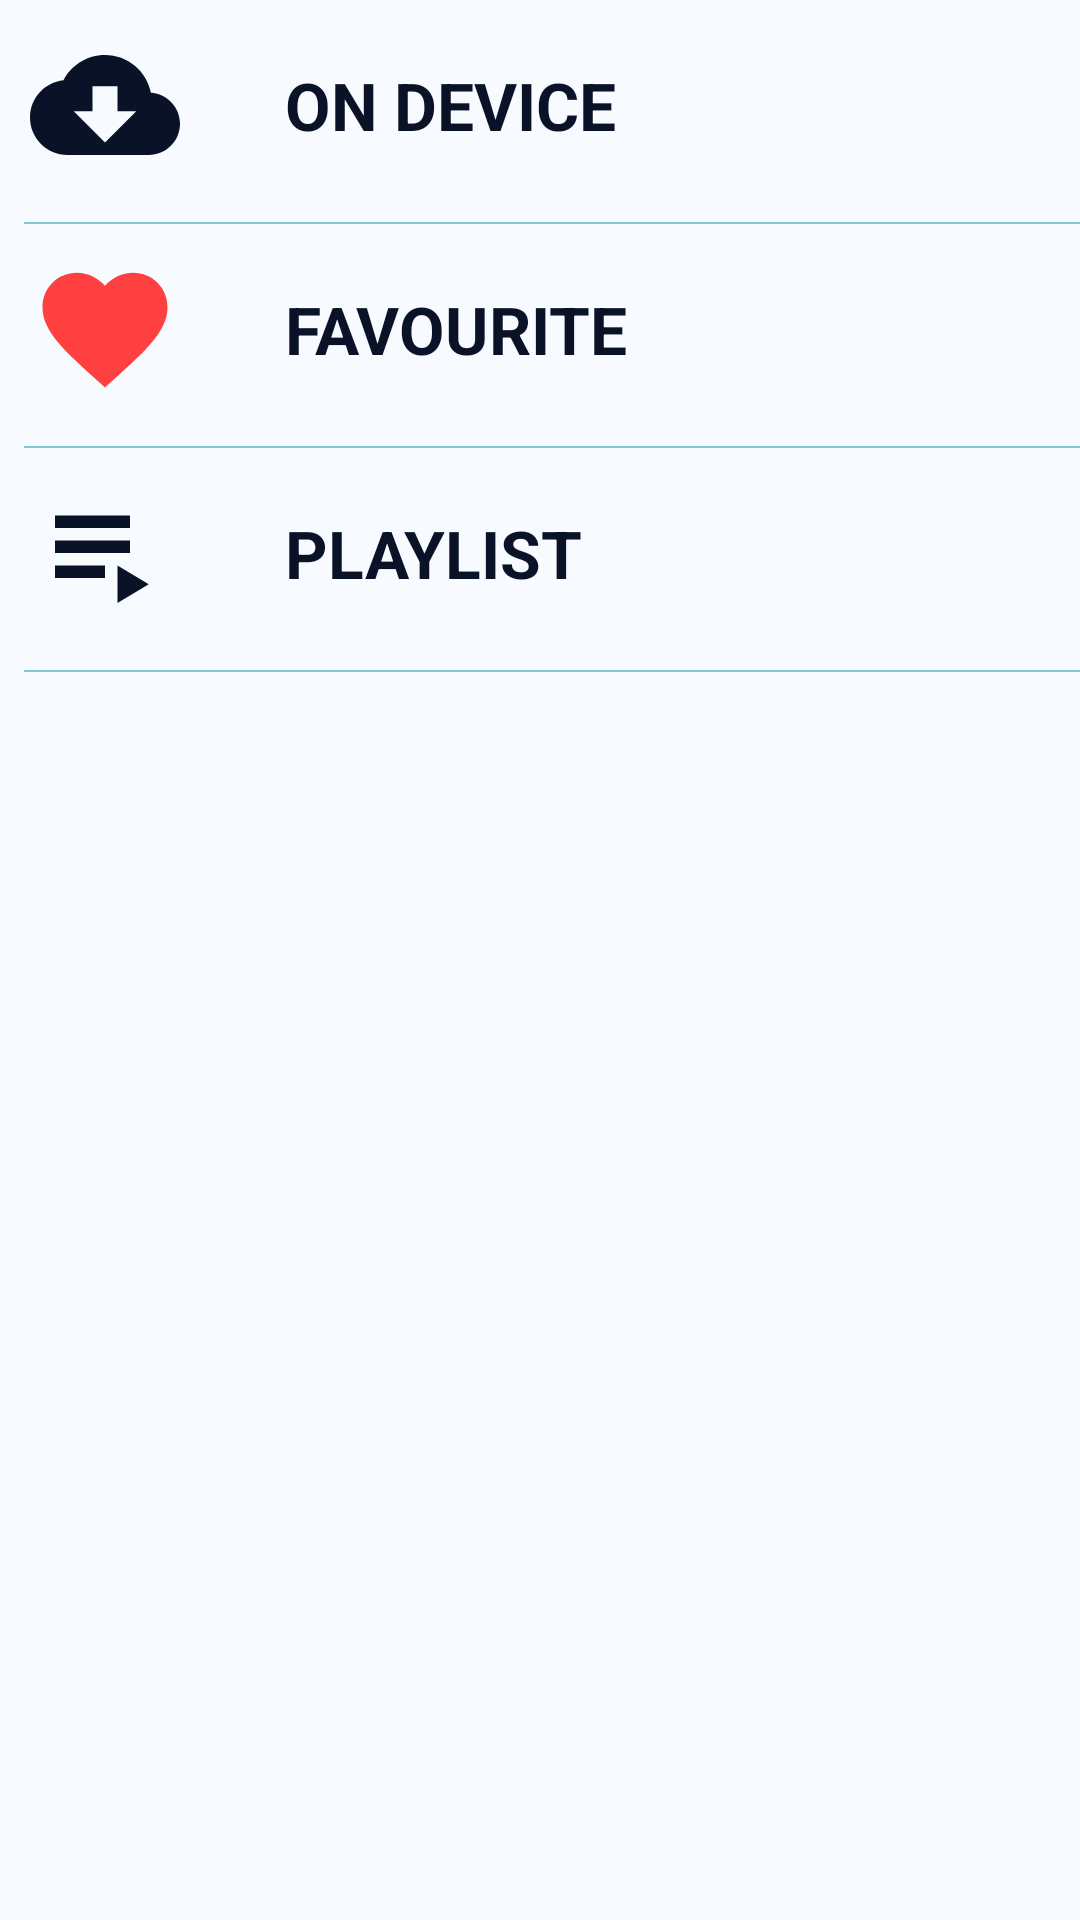

Named icons in this screenshot (1080 × 1920) and their centers, point (x, y):
download: point (105, 105)
favorite: point (105, 330)
